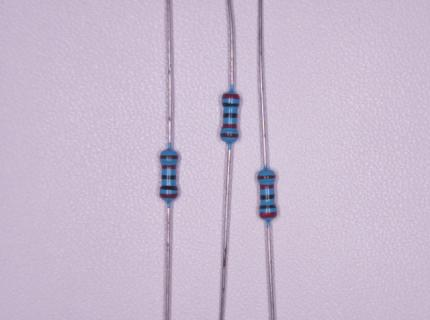Black band: (260, 194, 275, 201), (222, 102, 239, 108), (161, 174, 176, 180), (160, 185, 178, 190), (223, 112, 237, 118), (259, 205, 277, 209)
Brown band: (220, 132, 239, 138), (257, 175, 275, 180), (160, 155, 179, 159)
Red band: (260, 212, 277, 219), (159, 193, 178, 199), (222, 94, 240, 100), (222, 123, 237, 129), (259, 184, 274, 189), (161, 165, 176, 169)
